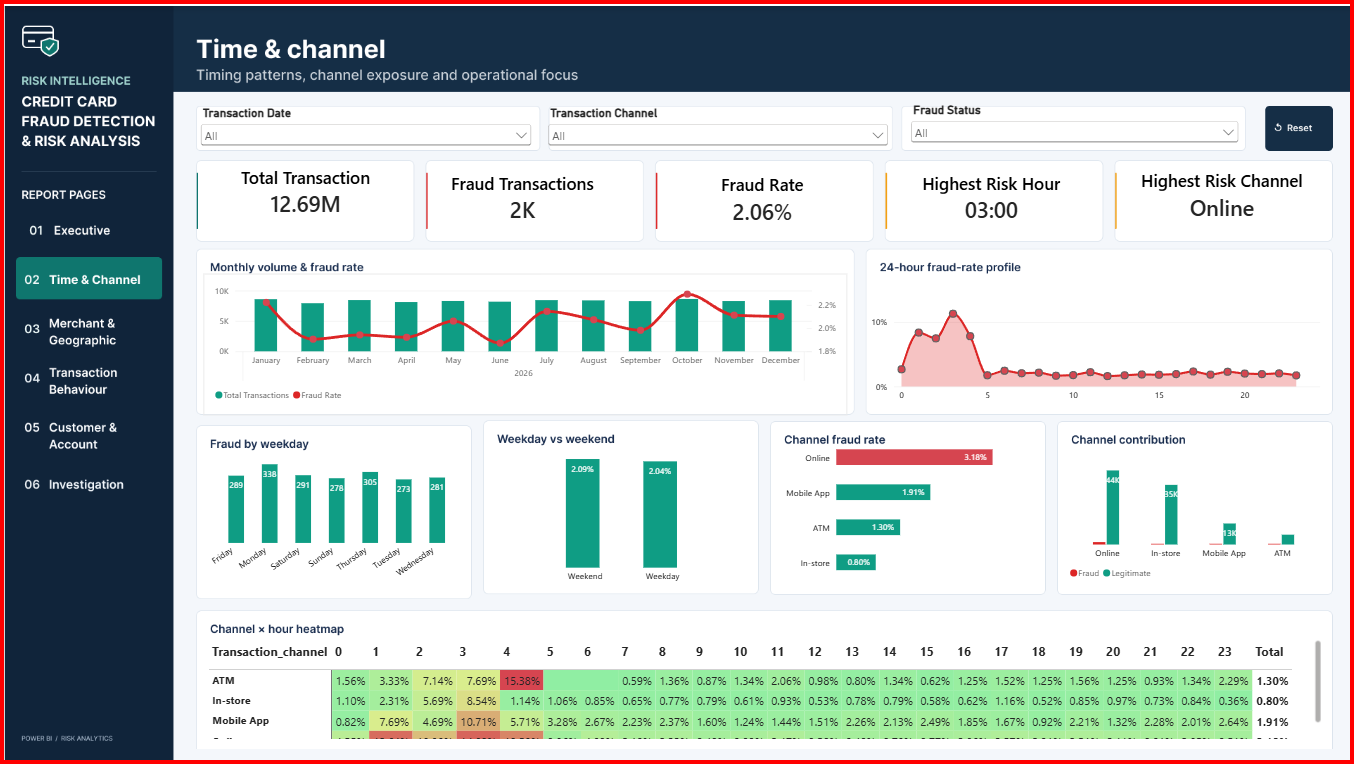

The page's visual inventory and layout, read from the dashboard file:
{"tool":"powerbi","page":{"name":"Page 2","canvas":[1920,1080],"ordinal":1},"visuals":[{"type":"group","id":"g1","title":"Group 1","box":[17.5,288.5,212,415.2],"z":0},{"type":"shape","box":[17.5,288.5,212,61.2],"z":0,"group":"g1"},{"type":"shape","box":[1793.2,140.9,93.2,70.5],"z":1000},{"type":"shape","box":[17.5,349.7,212,61.2],"z":1000,"group":"g1"},{"type":"cardVisual","fields":{"Data":["credit_card_fraud.Total Transaction Value"]},"box":[273.3,212.1,308.7,106],"z":2000},{"type":"shape","box":[17.5,419.6,212,61.2],"z":2000,"group":"g1"},{"type":"cardVisual","fields":{"Data":["credit_card_fraud.Fraud Transactions"]},"box":[581.8,220.5,308.7,106],"z":3000},{"type":"shape","box":[17.5,504.9,212,61.2],"z":3000,"group":"g1"},{"type":"cardVisual","fields":{"Data":["credit_card_fraud.Fraud Rate"]},"box":[922.7,222.7,308.7,106],"z":4000},{"type":"shape","box":[17.5,566.1,212,61.2],"z":4000,"group":"g1"},{"type":"cardVisual","fields":{"Data":["credit_card_fraud.Highest Risk Hour"]},"box":[1248.9,221.5,308.7,106],"z":5000},{"type":"shape","box":[17.5,642.5,212,61.2],"z":5000,"group":"g1"},{"type":"cardVisual","fields":{"Data":["credit_card_fraud.Highest Risk Channel"]},"box":[1576.4,212.1,308.7,115.5],"z":6000},{"type":"lineClusteredColumnComboChart","fields":{"Category":["credit_card_fraud.transaction_date.Variation.Date Hierarchy.Year","credit_card_fraud.transaction_date.Variation.Date Hierarchy.Month"],"Y":["credit_card_fraud.Total Transactions"],"Y2":["credit_card_fraud.Fraud Rate"]},"box":[281.8,379.5,915.9,202.3],"z":7000},{"type":"clusteredBarChart","fields":{"Category":["credit_card_fraud.transaction_channel"],"Y":["credit_card_fraud.Fraud Rate"]},"box":[1088.6,588.6,388.6,252.3],"z":8000},{"type":"lineChart","fields":{"Category":["credit_card_fraud.transaction_hour_from_datetime"],"Y":["credit_card_fraud.Fraud Rate"]},"box":[1215.9,379.5,670.5,202.3],"z":9000},{"type":"clusteredColumnChart","fields":{"Category":["credit_card_fraud.transaction_channel"],"Series":["credit_card_fraud.Fraud Status Label"],"Y":["credit_card_fraud.Total Transactions"]},"box":[1497.7,597.7,388.6,236.4],"z":10000},{"type":"clusteredColumnChart","fields":{"Category":["credit_card_fraud.Day Type"],"Y":["credit_card_fraud.Fraud Rate"]},"box":[681.8,590.9,395.4,250],"z":11000},{"type":"clusteredColumnChart","fields":{"Category":["credit_card_fraud.transaction_day_name_from_datetime"],"Y":["credit_card_fraud.Fraud Transactions"]},"box":[272.7,606.8,388.6,236.4],"z":12000},{"type":"slicer","fields":{"Values":["credit_card_fraud.transaction_date.Variation.Date Hierarchy.Month","credit_card_fraud.transaction_date.Variation.Date Hierarchy.Day"]},"box":[273.8,142.8,480,67.5],"z":13000,"group":"g2"},{"type":"pivotTable","fields":{"Columns":["credit_card_fraud.transaction_hour"],"Rows":["credit_card_fraud.transaction_channel"],"Values":["credit_card_fraud.Fraud Rate"]},"box":[272.7,886.4,1613.6,170.5],"z":13000},{"type":"group","id":"g2","title":"Group 2","box":[273.8,138.1,1485,72.2],"z":13001},{"type":"slicer","fields":{"Values":["credit_card_fraud.Fraud Status Label"]},"box":[1283.8,138.1,475,67.5],"z":15000,"group":"g2"},{"type":"slicer","fields":{"Values":["credit_card_fraud.transaction_channel"]},"box":[768.8,142.8,492.5,67.5],"z":17000,"group":"g2"}]}

Visuals, with their boxes on the page's 1920x1080 design canvas (x1, y1, x2, y2). These are canvas units, not pixel positions in the 1354x764 screenshot, which may show the page scaled, cropped or inside an application window:
"Group 1" group: x1=18, y1=288, x2=230, y2=704
shape: x1=18, y1=288, x2=230, y2=350
shape: x1=1793, y1=141, x2=1886, y2=211
shape: x1=18, y1=350, x2=230, y2=411
cardVisual - credit_card_fraud.Total Transaction Value: x1=273, y1=212, x2=582, y2=318
shape: x1=18, y1=420, x2=230, y2=481
cardVisual - credit_card_fraud.Fraud Transactions: x1=582, y1=220, x2=890, y2=326
shape: x1=18, y1=505, x2=230, y2=566
cardVisual - credit_card_fraud.Fraud Rate: x1=923, y1=223, x2=1231, y2=329
shape: x1=18, y1=566, x2=230, y2=627
cardVisual - credit_card_fraud.Highest Risk Hour: x1=1249, y1=222, x2=1558, y2=328
shape: x1=18, y1=642, x2=230, y2=704
cardVisual - credit_card_fraud.Highest Risk Channel: x1=1576, y1=212, x2=1885, y2=328
lineClusteredColumnComboChart - credit_card_fraud.transaction_date.Variation.Date Hierarchy.Year x credit_card_fraud.transaction_date.Variation.Date Hierarchy.Month: x1=282, y1=380, x2=1198, y2=582
clusteredBarChart - credit_card_fraud.transaction_channel x credit_card_fraud.Fraud Rate: x1=1089, y1=589, x2=1477, y2=841
lineChart - credit_card_fraud.transaction_hour_from_datetime x credit_card_fraud.Fraud Rate: x1=1216, y1=380, x2=1886, y2=582
clusteredColumnChart - credit_card_fraud.transaction_channel x credit_card_fraud.Fraud Status Label: x1=1498, y1=598, x2=1886, y2=834
clusteredColumnChart - credit_card_fraud.Day Type x credit_card_fraud.Fraud Rate: x1=682, y1=591, x2=1077, y2=841
clusteredColumnChart - credit_card_fraud.transaction_day_name_from_datetime x credit_card_fraud.Fraud Transactions: x1=273, y1=607, x2=661, y2=843
slicer - credit_card_fraud.transaction_date.Variation.Date Hierarchy.Month x credit_card_fraud.transaction_date.Variation.Date Hierarchy.Day: x1=274, y1=143, x2=754, y2=210
pivotTable - credit_card_fraud.transaction_hour x credit_card_fraud.transaction_channel: x1=273, y1=886, x2=1886, y2=1057
"Group 2" group: x1=274, y1=138, x2=1759, y2=210
slicer - credit_card_fraud.Fraud Status Label: x1=1284, y1=138, x2=1759, y2=206
slicer - credit_card_fraud.transaction_channel: x1=769, y1=143, x2=1261, y2=210
